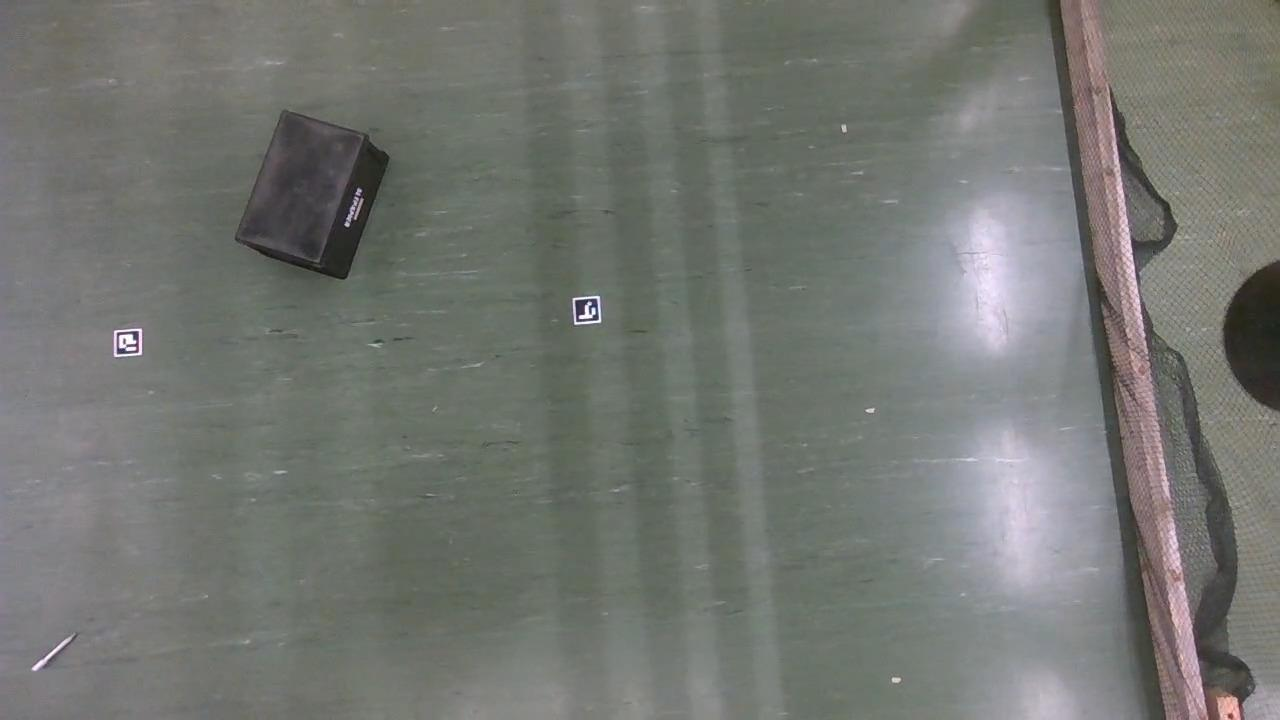probes: (31, 633, 78, 671)
rako: (235, 111, 388, 277)
